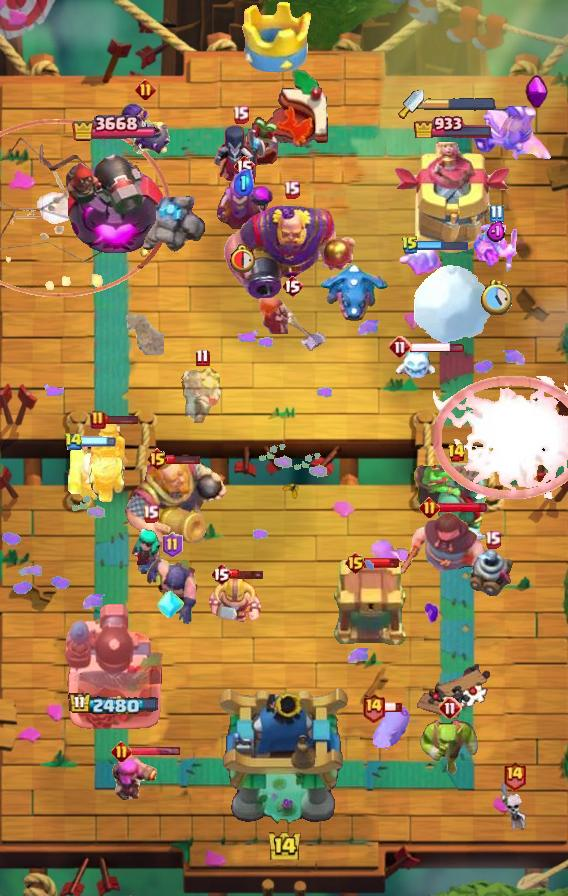bar: (410, 341, 465, 354), (417, 239, 469, 252), (437, 501, 488, 514), (129, 746, 181, 757), (229, 568, 265, 580), (364, 557, 400, 569), (166, 453, 201, 465), (80, 436, 116, 447), (104, 414, 139, 425), (383, 701, 403, 713)
bar-level: (502, 760, 527, 791), (361, 692, 386, 723), (438, 696, 462, 720), (388, 335, 412, 359), (344, 551, 367, 575), (146, 447, 169, 471), (162, 532, 183, 558), (210, 562, 232, 586), (281, 274, 303, 298), (233, 154, 255, 178), (111, 741, 132, 762), (419, 497, 440, 518), (135, 79, 156, 100), (447, 443, 466, 463), (64, 432, 83, 451), (401, 235, 419, 255), (484, 530, 501, 549), (142, 504, 159, 523), (283, 180, 300, 199), (232, 105, 249, 124), (90, 410, 106, 430), (195, 348, 210, 367), (489, 204, 504, 223)
bomber-evolution: (118, 101, 172, 157)
cannoneer-tower: (64, 601, 164, 731), (64, 138, 164, 256)
clock: (481, 280, 512, 315), (230, 243, 258, 273)
dagger-duchess-tower: (394, 142, 512, 256)
dagger-duchess-tower-bar: (424, 97, 496, 111)
dirt: (126, 315, 164, 355)
electro-dragon: (318, 261, 390, 325)
elite-barbarian: (208, 576, 262, 624)
elixir: (234, 169, 254, 196), (487, 221, 506, 242)
evolution-symbol: (525, 75, 549, 111)
executioner: (145, 556, 199, 626)
firecracker: (109, 750, 161, 804), (66, 443, 108, 501)
goblin-brawler: (419, 719, 481, 775)
golemite: (139, 196, 205, 258)
hog: (370, 704, 412, 750)
ice-spirit: (394, 344, 438, 382)
ice-spirit-evolution: (397, 243, 447, 281)
ice-spirit-evolution-symbol: (156, 587, 184, 621)
king-tower: (216, 684, 352, 826)
mother-witch: (214, 177, 274, 233)
night-witch: (212, 123, 268, 199)
ram-rider: (85, 419, 131, 503)
rascal-girl: (126, 527, 174, 577)
royal-ghost: (181, 365, 223, 423)
skeleton: (500, 779, 528, 831)
spear-goblin: (472, 223, 520, 275)
tower-bar: (72, 112, 156, 145), (68, 692, 160, 717), (413, 113, 494, 138)
valkyrie: (257, 296, 327, 352)
zappy: (469, 542, 515, 596)
